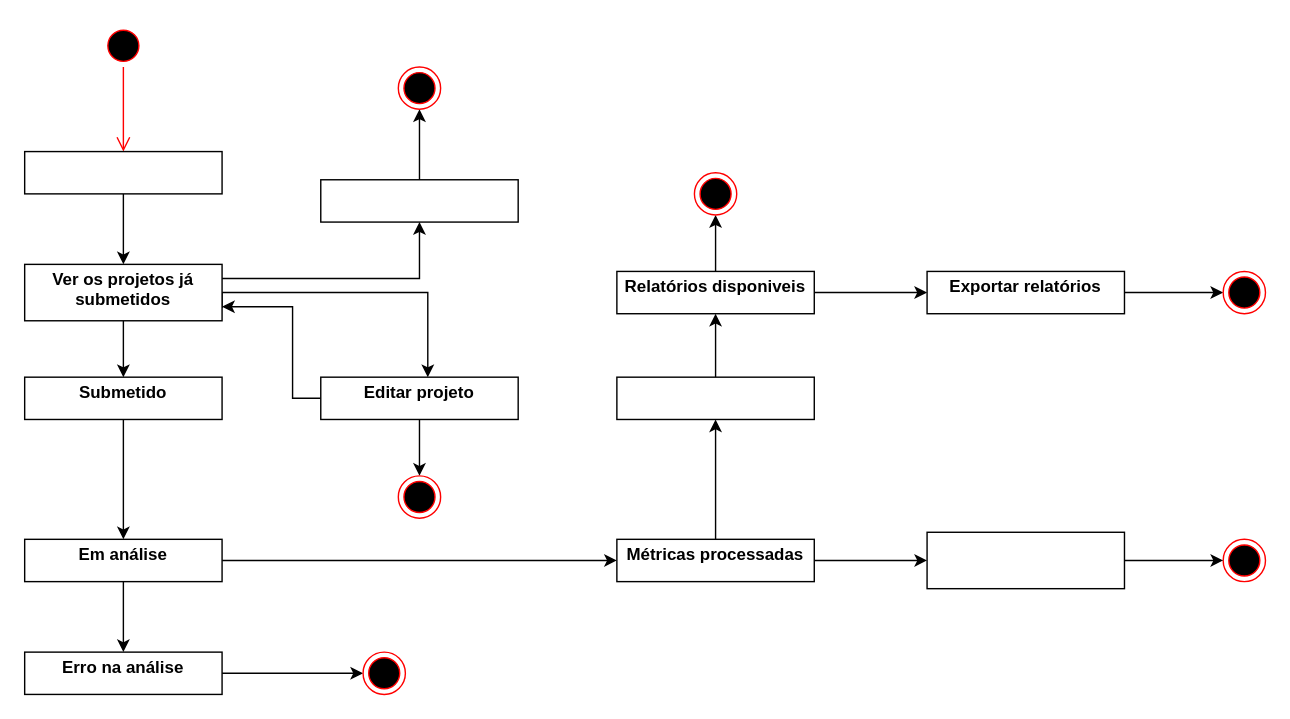
Image size: 1290x719. Some labels were removed from this diagram. Here are the shapes that lost their labels. From the top down, the centre of each, then its label:
[122,172]: Login
[418,200]: Apagar projeto
[714,397]: Métricas calculadas
[1025,560]: Falha a calcular as métricas
